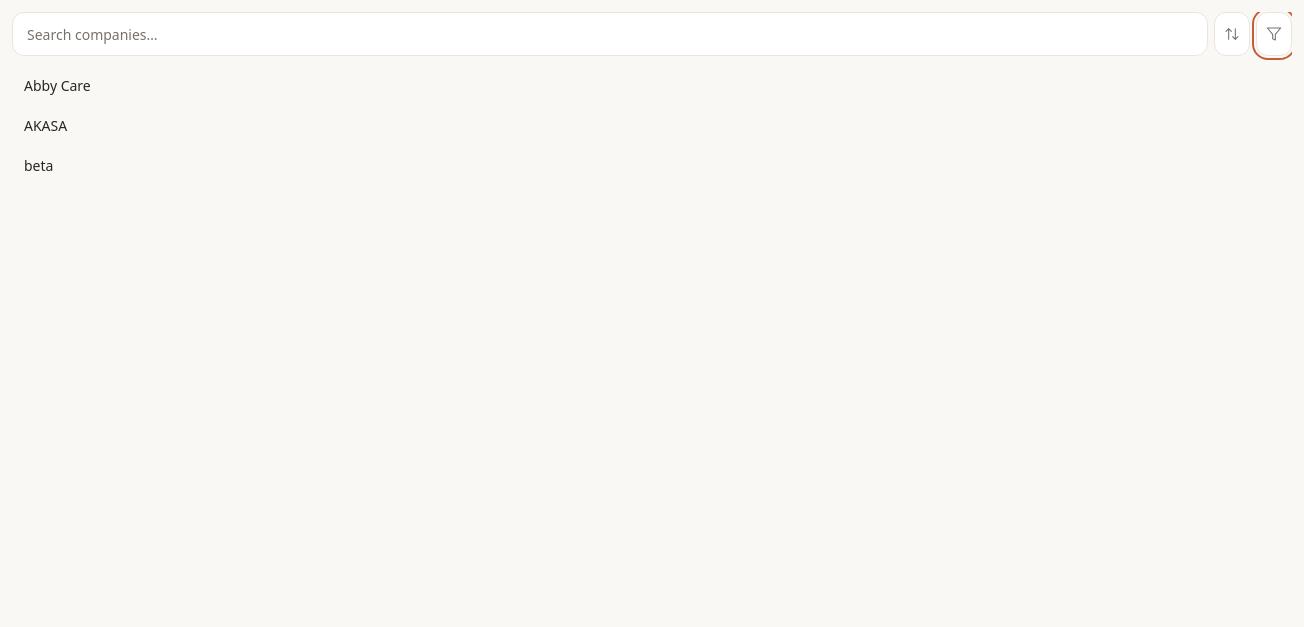
Test: CompaniesSidebar menus, focus, and ARIA › buttons and menu items are keyboard-focusable native buttons (Req 1.8)
This screenshot has width=1304, height=627.
Check: the button named "Filter companies" is enabled, box x1=1256 y1=12 x2=1292 y2=56
Click the button named "Sort companies" at (1232, 34), box x1=1214 y1=12 x2=1250 y2=56
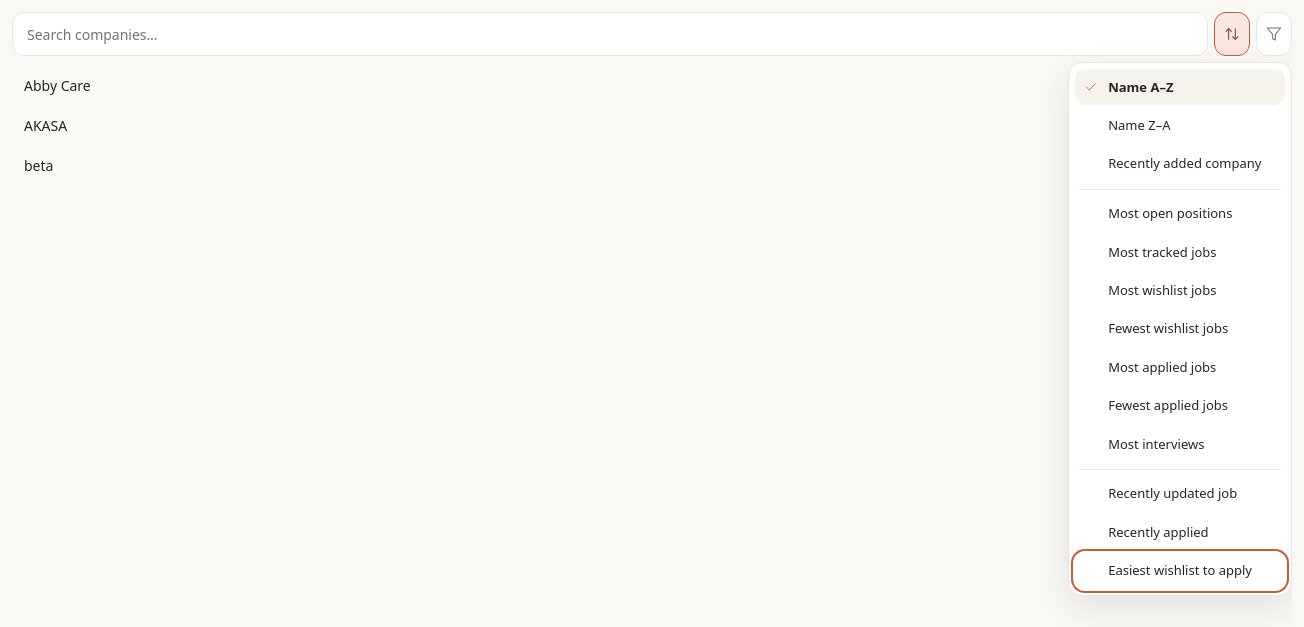
Check: the menu item "Name A–Z" is enabled, box x1=1075 y1=69 x2=1285 y2=105
Check: the menu item "Name Z–A" is enabled, box x1=1075 y1=108 x2=1285 y2=144
Check: the menu item "Recently added company" is enabled, box x1=1075 y1=146 x2=1285 y2=182
Click the button named "Filter companies" at (1274, 34), box x1=1256 y1=12 x2=1292 y2=56
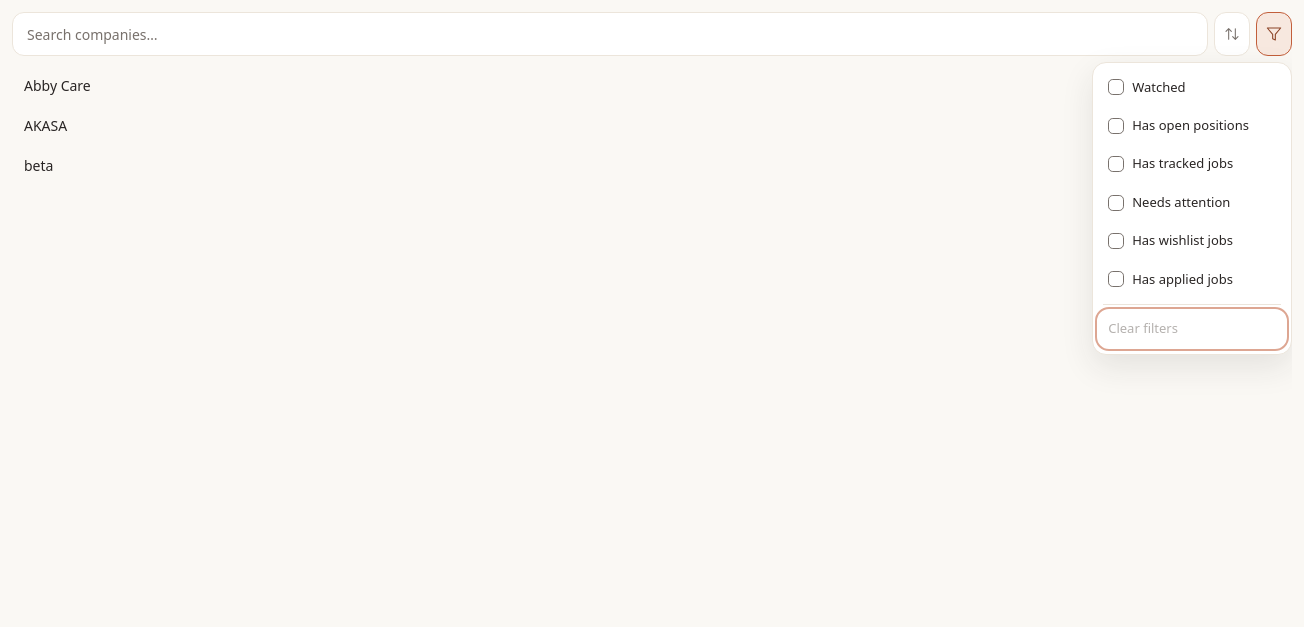
Check: the menu item "Watched" is enabled, box x1=1099 y1=69 x2=1285 y2=105
Check: the menu item "Has open positions" is enabled, box x1=1099 y1=108 x2=1285 y2=144
Check: the menu item "Has tracked jobs" is enabled, box x1=1099 y1=146 x2=1285 y2=182
